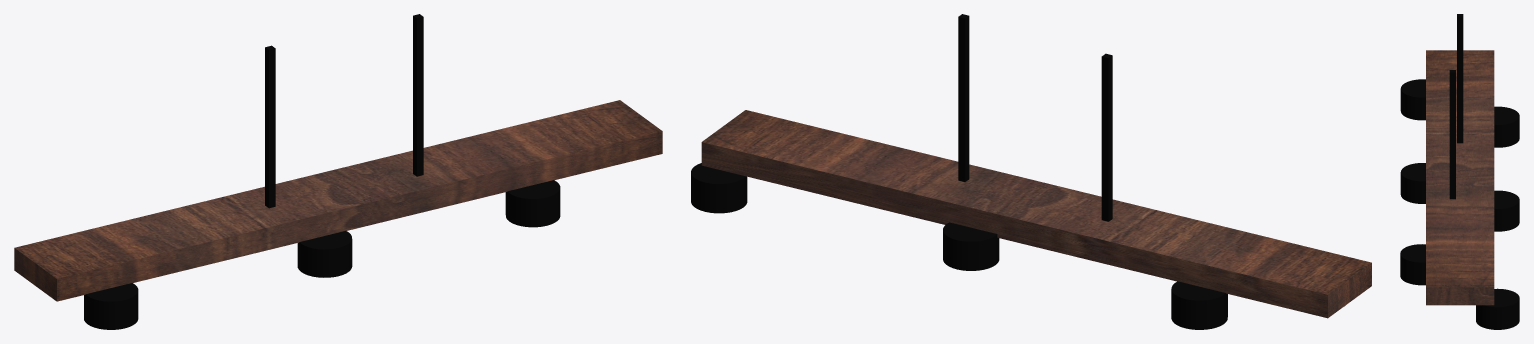
Rendered from Lampara.fbx.
The picture shows the model from 3 angles, left to right: view 1: azimuth 30°, elevation 25°; view 2: azimuth 150°, elevation 25°; view 3: azimuth 270°, elevation 25°; orthographic projection. The views are drawn at different scales.
Parts seen in each view (by area): view 1: Cube, Cylinder.010, Cylinder.009, Cylinder.007, Cube.002, Cube.001; view 2: Cube, Cylinder.011, Cylinder.008, Cylinder.006, Cube.001, Cube.002; view 3: Cube, Cylinder.011, Cylinder.006, Cylinder.008, Cylinder.010, Cylinder.007, Cylinder.009, Cube.001, Cube.002.
Boxes of the visible parts, bbox=[...] form: Cube: bbox=[14, 100, 662, 301]; Cylinder.010: bbox=[505, 180, 560, 227]; Cylinder.009: bbox=[297, 231, 352, 277]; Cylinder.007: bbox=[84, 283, 138, 329]; Cube.002: bbox=[413, 14, 423, 176]; Cube.001: bbox=[265, 45, 275, 208]; Cube: bbox=[701, 110, 1371, 318]; Cylinder.011: bbox=[691, 163, 747, 213]; Cylinder.008: bbox=[1171, 281, 1227, 329]; Cylinder.006: bbox=[943, 222, 999, 270]; Cube.001: bbox=[1101, 53, 1112, 221]; Cube.002: bbox=[958, 14, 969, 181]; Cube: bbox=[1426, 50, 1494, 305]; Cylinder.011: bbox=[1476, 288, 1519, 329]; Cylinder.006: bbox=[1494, 190, 1519, 231]; Cylinder.008: bbox=[1494, 106, 1519, 147]; Cylinder.010: bbox=[1400, 244, 1425, 285]; Cylinder.007: bbox=[1400, 79, 1425, 120]; Cylinder.009: bbox=[1400, 163, 1425, 203]; Cube.001: bbox=[1457, 14, 1463, 143]; Cube.002: bbox=[1449, 70, 1455, 199].
Bounding box in the file's own units: 902 × 296 × 191.
3 materials, 3 textured.
